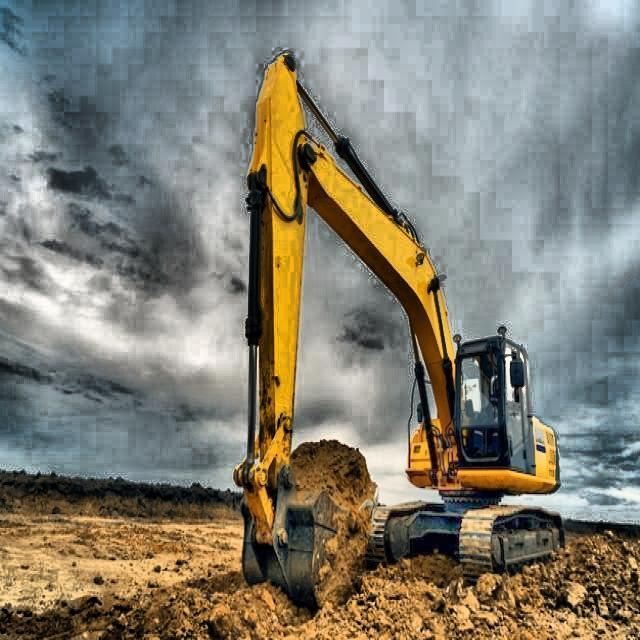excavator: (230, 51, 566, 614)
